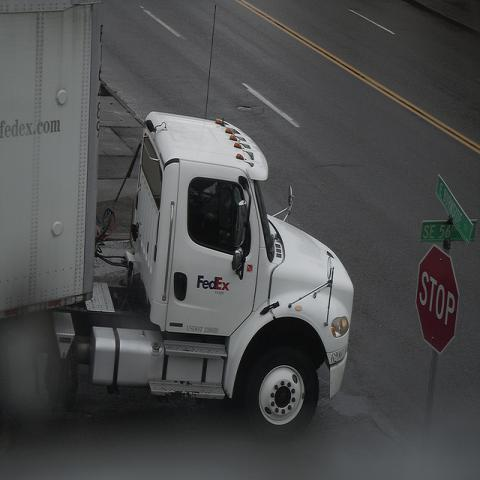truck: (0, 0, 354, 443)
